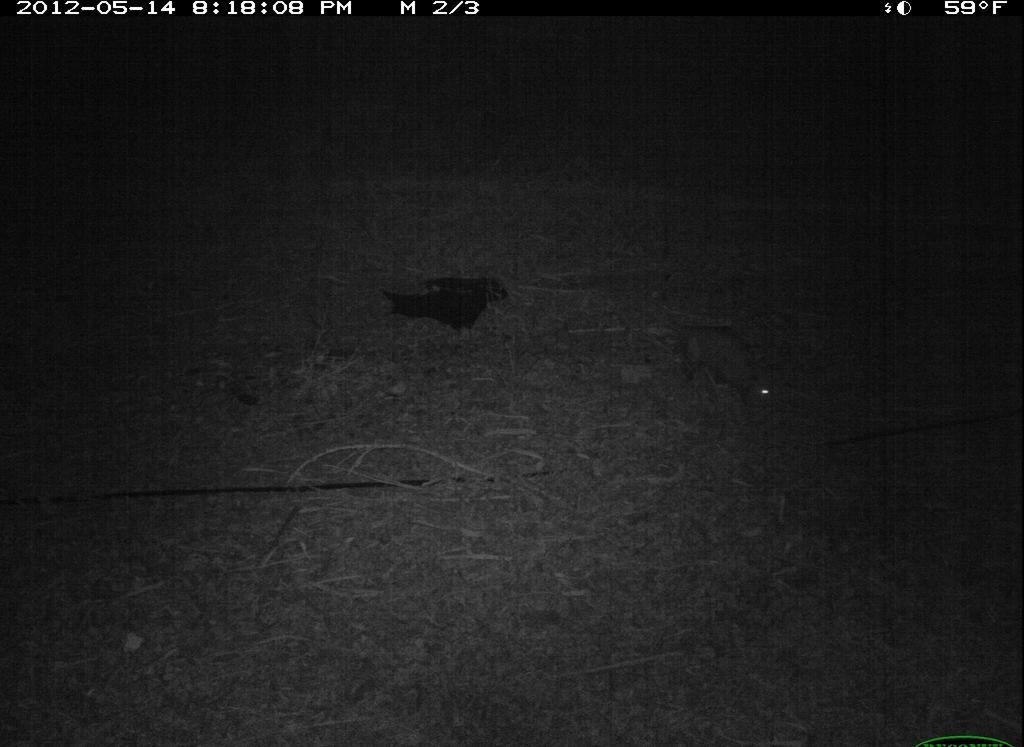opossum: (652, 304, 798, 437)
